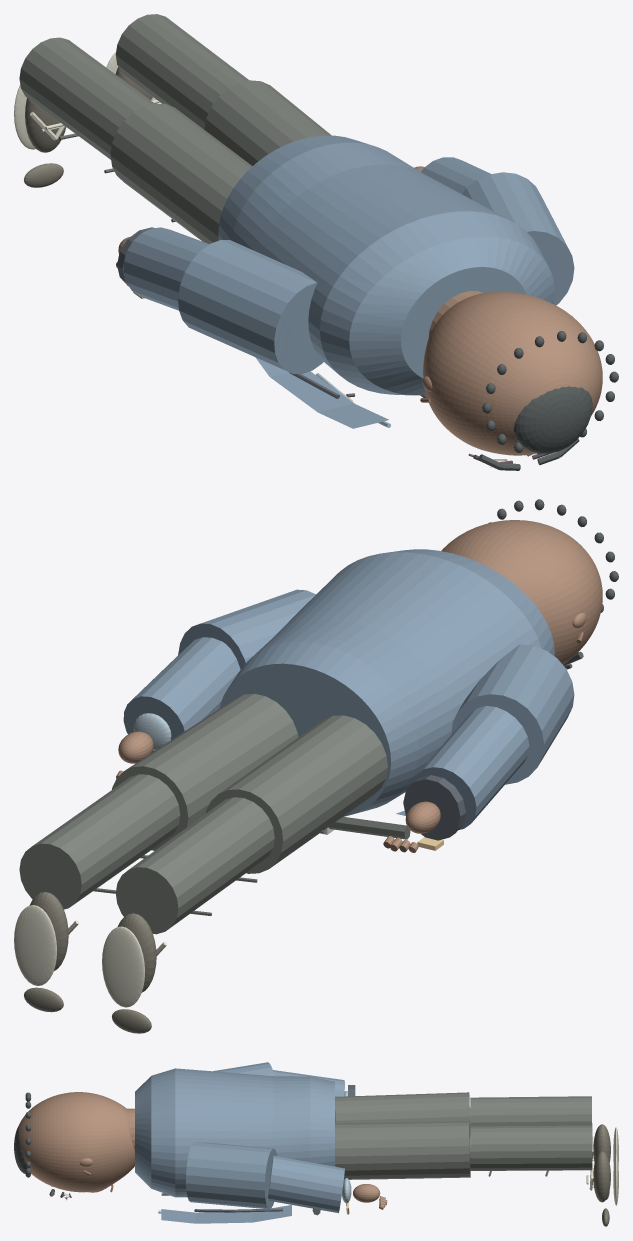
File: bongani_cele.glb
3 views of the same model, one above another, from view 1: azimuth 30°, elevation 25°; view 2: azimuth 150°, elevation 25°; view 3: azimuth 270°, elevation 25° (orthographic). The views are drawn at different scales.
Visible parts, largest first — view 1: bongani_cele_top, bongani_cele_pants, bongani_cele_skin, bongani_cele_hair, bongani_cele_shoe, bongani_cele_sole, bongani_cele_topshadow; view 2: bongani_cele_top, bongani_cele_pants, bongani_cele_skin, bongani_cele_sole, bongani_cele_shoe, bongani_cele_topshadow, bongani_cele_pantshadow, bongani_cele_hair, bongani_cele_tophi; view 3: bongani_cele_top, bongani_cele_pants, bongani_cele_skin, bongani_cele_shoe, bongani_cele_hair, bongani_cele_sole, bongani_cele_topshadow.
Boxes of the visible parts, left/top/right/bottom form: bongani_cele_top: left=123, top=135, right=574, bottom=428; bongani_cele_pants: left=19, top=14, right=331, bottom=243; bongani_cele_skin: left=116, top=166, right=602, bottom=455; bongani_cele_hair: left=478, top=331, right=618, bottom=470; bongani_cele_shoe: left=24, top=67, right=152, bottom=187; bongani_cele_sole: left=14, top=52, right=159, bottom=149; bongani_cele_topshadow: left=117, top=227, right=426, bottom=398; bongani_cele_top: left=123, top=549, right=574, bottom=829; bongani_cele_pants: left=19, top=693, right=387, bottom=934; bongani_cele_skin: left=116, top=520, right=602, bottom=852; bongani_cele_sole: left=14, top=905, right=167, bottom=1007; bongani_cele_shoe: left=24, top=892, right=156, bottom=1033; bongani_cele_topshadow: left=403, top=775, right=465, bottom=840; bongani_cele_pantshadow: left=93, top=816, right=410, bottom=915; bongani_cele_hair: left=488, top=499, right=618, bottom=665; bongani_cele_tophi: left=133, top=713, right=171, bottom=750; bongani_cele_top: left=135, top=1062, right=344, bottom=1223; bongani_cele_pants: left=335, top=1092, right=592, bottom=1179; bongani_cele_skin: left=18, top=1092, right=387, bottom=1209; bongani_cele_shoe: left=593, top=1124, right=610, bottom=1226; bongani_cele_hair: left=14, top=1092, right=54, bottom=1196; bongani_cele_sole: left=586, top=1127, right=618, bottom=1205; bongani_cele_topshadow: left=161, top=1085, right=355, bottom=1212.
Bounding box in the file's own units: 0.7804 × 0.4336 × 1.79.
